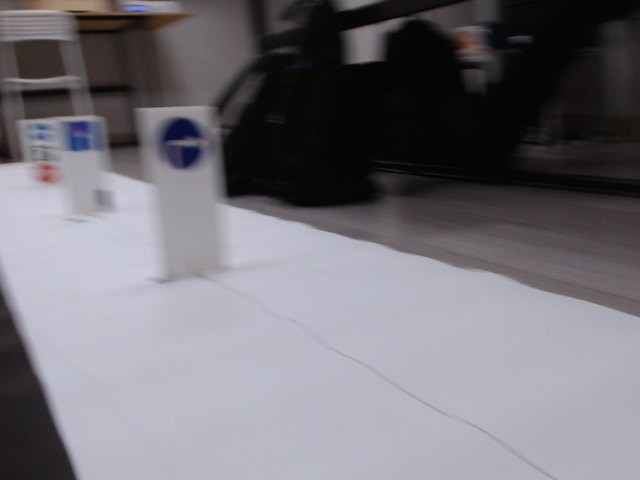Right: (157, 115, 209, 170)
